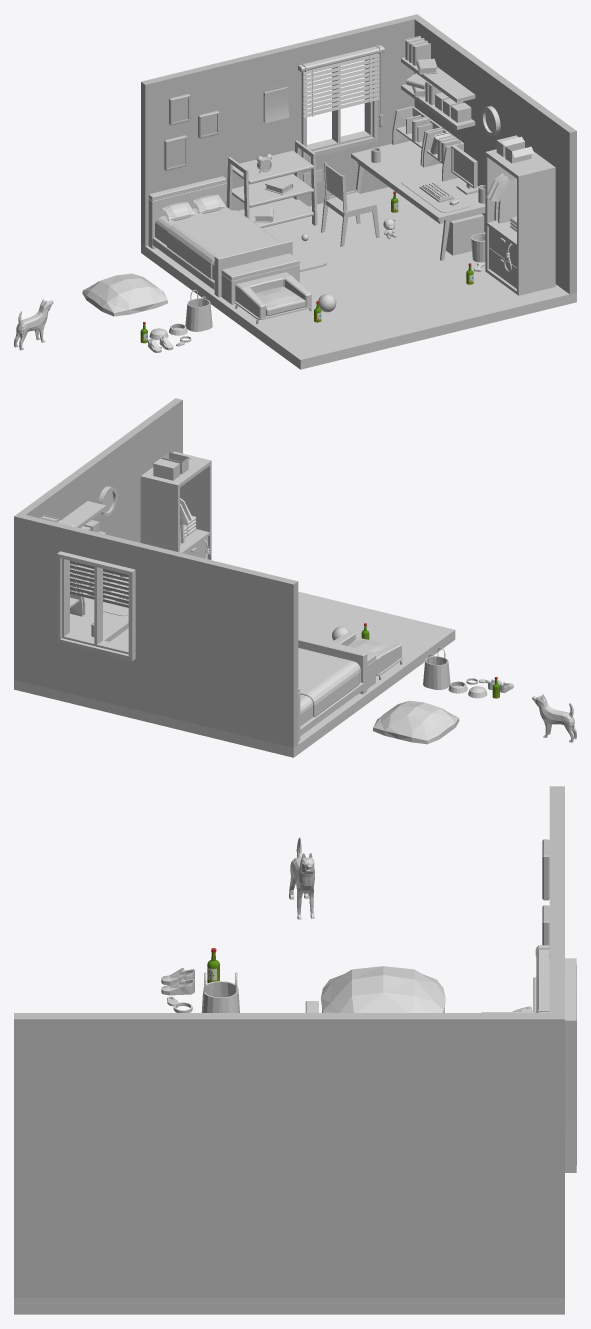
The model's file is MAP.fbx.
3 views of the same model, one above another, from view 1: azimuth 30°, elevation 25°; view 2: azimuth 150°, elevation 25°; view 3: azimuth 270°, elevation 25° (orthographic). The views are drawn at different scales.
Parts seen in each view (by area): view 1: WALL, Plane.005, 옷장, 침대.008, 책상, Plane.018, 장식장.001, Plane.023, Plane.013, Cube.028, Cube.011, 침대.003 (+31 smaller); view 2: WALL, Plane.005, 옷장, Plane.013, 침대.008, Plane.023, Plane.018, 책상, 침대.003, 개, Cube.028, Cube.002 (+4 smaller); view 3: WALL, Plane.005, Plane.023, Plane.013, 개, Cube.002, PhotoFrame_02.003, Cube.
Boxes of the visible parts, bbox=[...] form: WALL: bbox=[141, 14, 576, 294]; Plane.005: bbox=[141, 187, 576, 369]; 옷장: bbox=[485, 149, 555, 295]; 침대.008: bbox=[167, 210, 278, 279]; 책상: bbox=[351, 141, 485, 223]; Plane.018: bbox=[303, 53, 379, 117]; 장식장.001: bbox=[232, 150, 313, 227]; Plane.023: bbox=[82, 273, 167, 316]; Plane.013: bbox=[301, 53, 377, 158]; Cube.028: bbox=[235, 272, 311, 318]; Cube.011: bbox=[401, 57, 475, 129]; 침대.003: bbox=[214, 238, 292, 297]; WALL: bbox=[14, 398, 298, 747]; Plane.005: bbox=[14, 591, 455, 757]; 옷장: bbox=[140, 451, 211, 559]; Plane.013: bbox=[57, 551, 135, 661]; 침대.008: bbox=[298, 649, 359, 717]; Plane.023: bbox=[372, 700, 459, 744]; Plane.018: bbox=[70, 560, 128, 607]; 책상: bbox=[70, 575, 128, 641]; 침대.003: bbox=[298, 636, 367, 694]; 개: bbox=[532, 694, 576, 742]; Cube.028: bbox=[329, 632, 401, 675]; Cube.002: bbox=[423, 656, 450, 689]; WALL: bbox=[14, 786, 564, 1297]; Plane.005: bbox=[14, 1298, 564, 1314]; Plane.023: bbox=[320, 966, 445, 1012]; Plane.013: bbox=[549, 958, 576, 1172]; 개: bbox=[289, 837, 314, 919]; Cube.002: bbox=[201, 981, 239, 1012]; PhotoFrame_02.003: bbox=[536, 945, 549, 1012]; Cube: bbox=[161, 968, 194, 995].
Size of the model in its own units: 1037 by 355 by 613.
